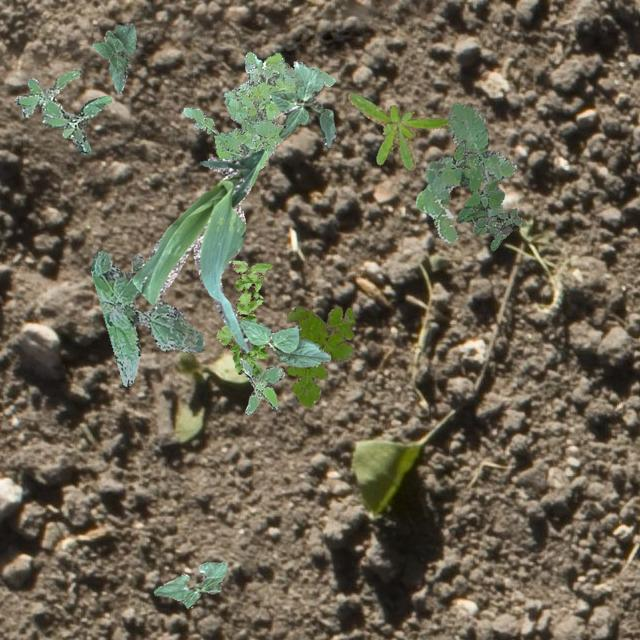crop: (130, 148, 266, 352), (268, 60, 336, 146), (238, 318, 329, 368), (152, 560, 226, 608), (92, 22, 136, 92)
weed: (180, 51, 334, 168), (90, 250, 204, 386), (414, 102, 516, 242), (12, 68, 110, 154), (450, 138, 524, 250), (348, 92, 448, 170), (284, 304, 354, 408), (214, 260, 272, 376), (238, 356, 284, 414)
